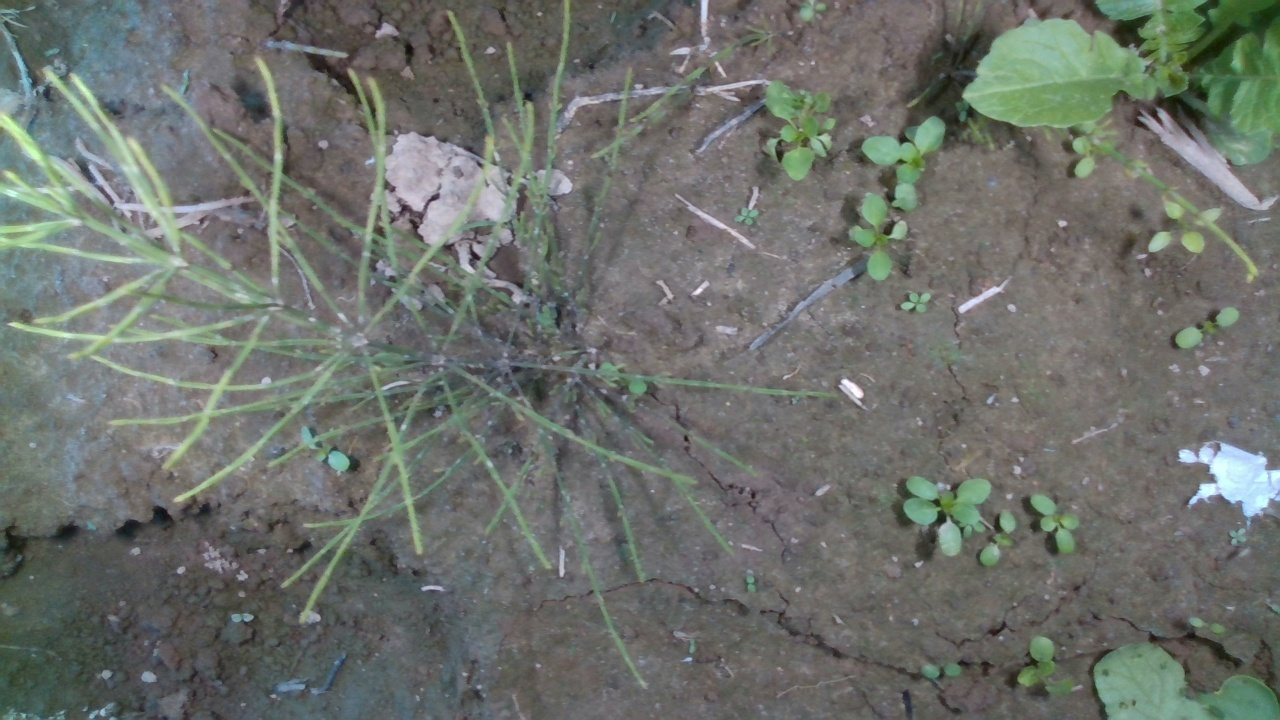weed: (1029, 492, 1081, 554), (1173, 306, 1240, 350), (896, 291, 932, 315), (918, 661, 962, 679), (732, 204, 759, 226), (1227, 525, 1247, 545)
